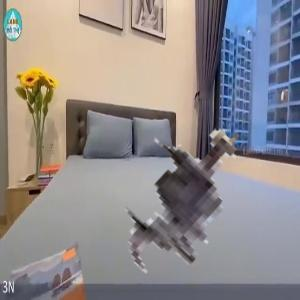drone: (85, 91, 279, 285)
